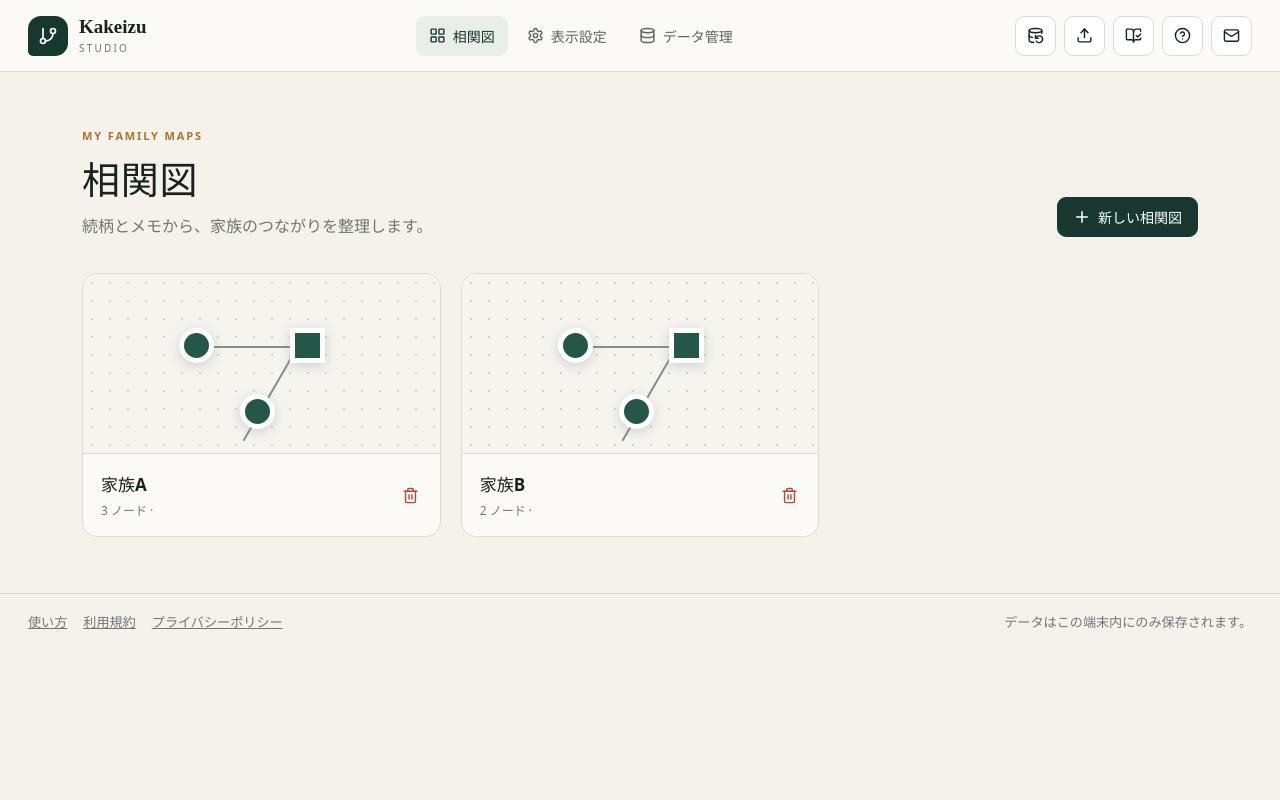
Test: 相関図一覧の個別JSON書き出し › 一覧のカードで選択した相関図だけを書き出す
Step 1. Click the button named "相関図を選択してバックアップ" → (1036, 36), box [1015,16,1056,56]
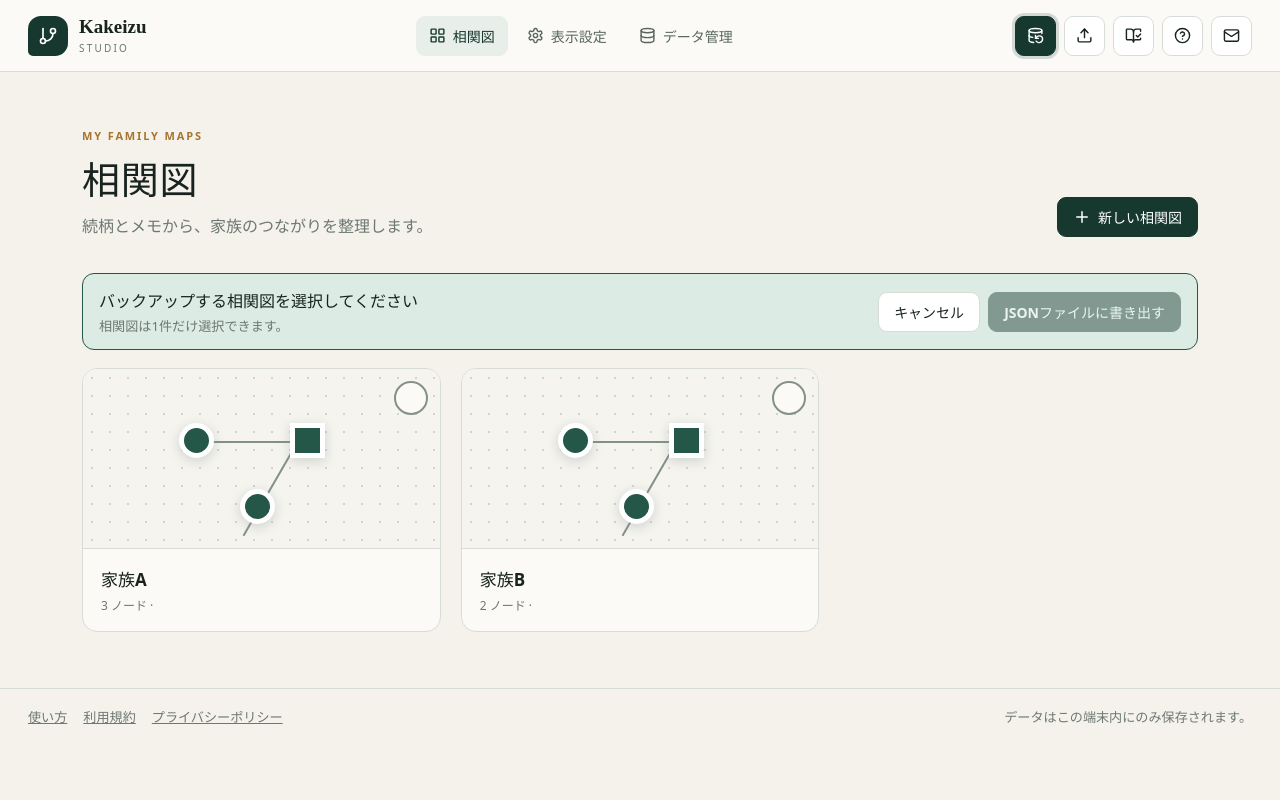
Expected: the text "バックアップする相関図を選択してください" is shown, [99,290,418,312]
Expected: the button "JSONファイルに書き出す" is disabled, [988,292,1181,332]
Step 2. Click the radio button labelled "家族A 3 ノード ·" → (261, 500), box [82,368,441,632]
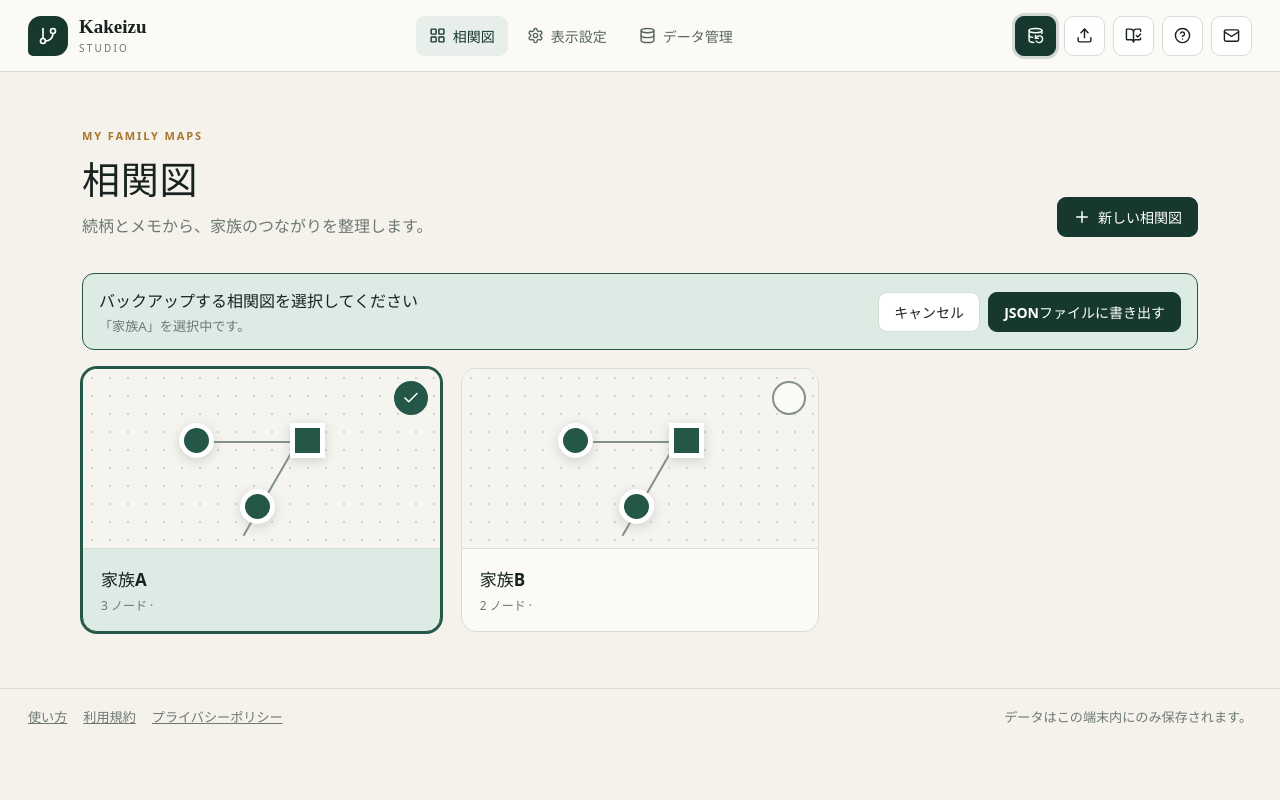
Expected: the button "JSONファイルに書き出す" is enabled
Expected: the text "「家族A」を選択中です。" is shown, [99,317,250,335]
Step 3. Click the button "JSONファイルに書き出す" → (1085, 312), box [988,292,1181,332]
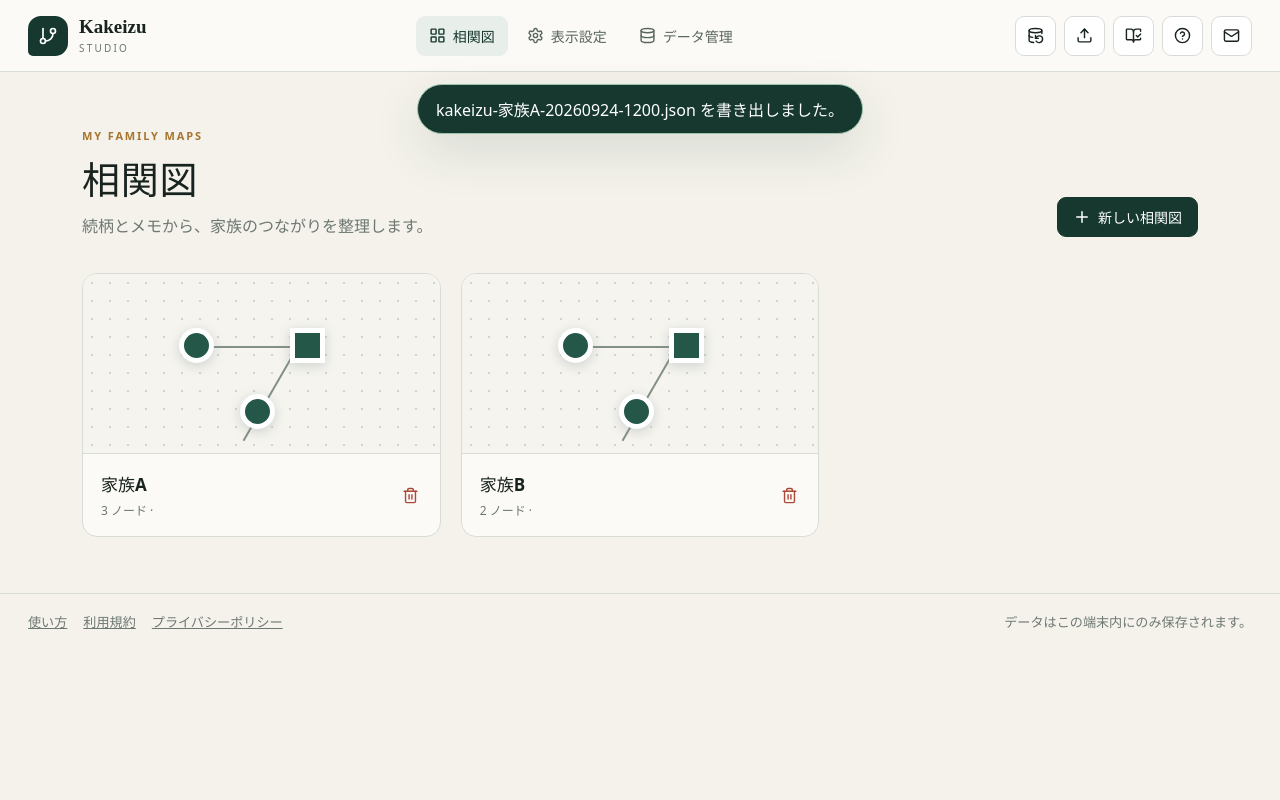
Expected: the text "kakeizu-家族A-20260924-1200.json を書き出しました。" is shown, [417,84,863,134]
